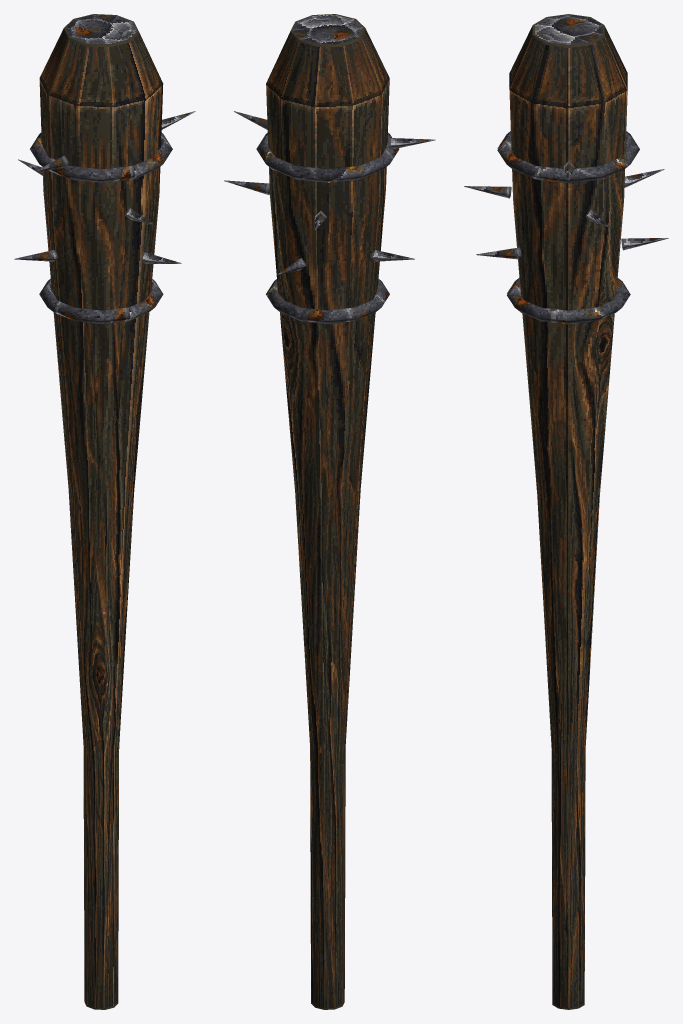
File: ogre_club.glb
The picture shows the model from 3 angles, left to right: view 1: azimuth 30°, elevation 25°; view 2: azimuth 150°, elevation 25°; view 3: azimuth 270°, elevation 25°; orthographic projection.
Visible parts, largest first — view 1: ogre_club; view 2: ogre_club; view 3: ogre_club.
Boxes of the visible parts, x1,y1,x2,y2 form: ogre_club: [14, 14, 195, 1009]; ogre_club: [224, 14, 435, 1009]; ogre_club: [464, 14, 668, 1009].
Size of the model in its own units: 0.2216 by 1.14 by 0.2172.
Materials: 1 (1 with a texture image).
